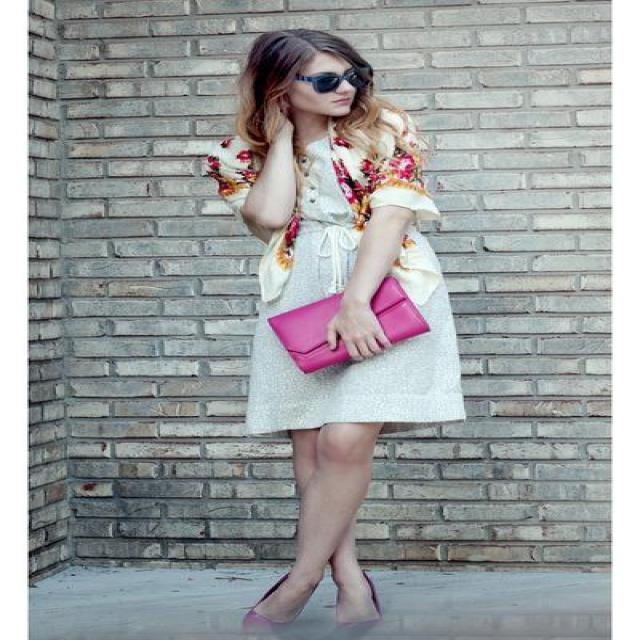bag: (267, 273, 429, 368)
dress: (211, 124, 464, 433)
shoe: (274, 602, 384, 639)
sunglass: (307, 68, 373, 109)
